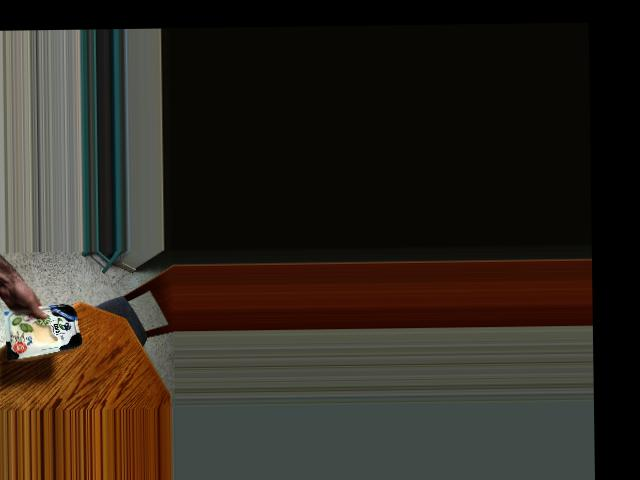cheese: (13, 303, 84, 356)
